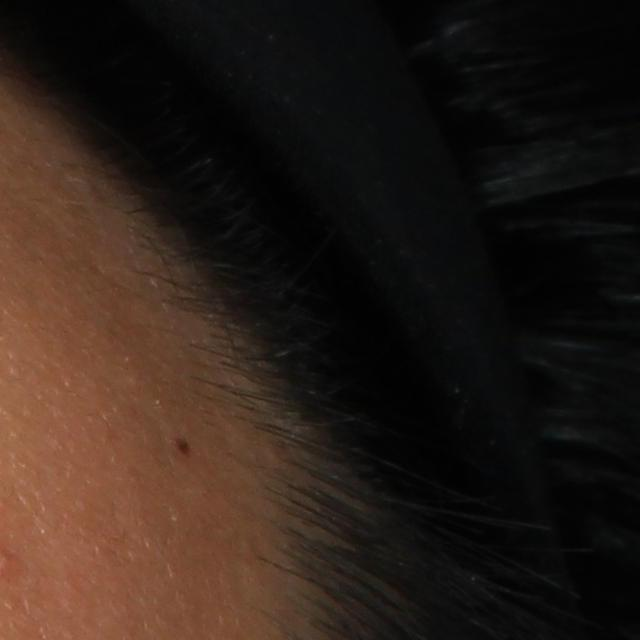nevus: (169, 435, 195, 462)
